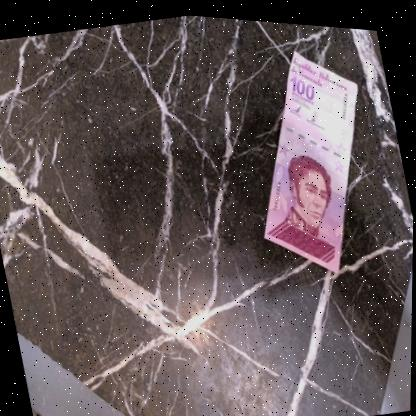vef_front: (225, 28, 396, 284)
